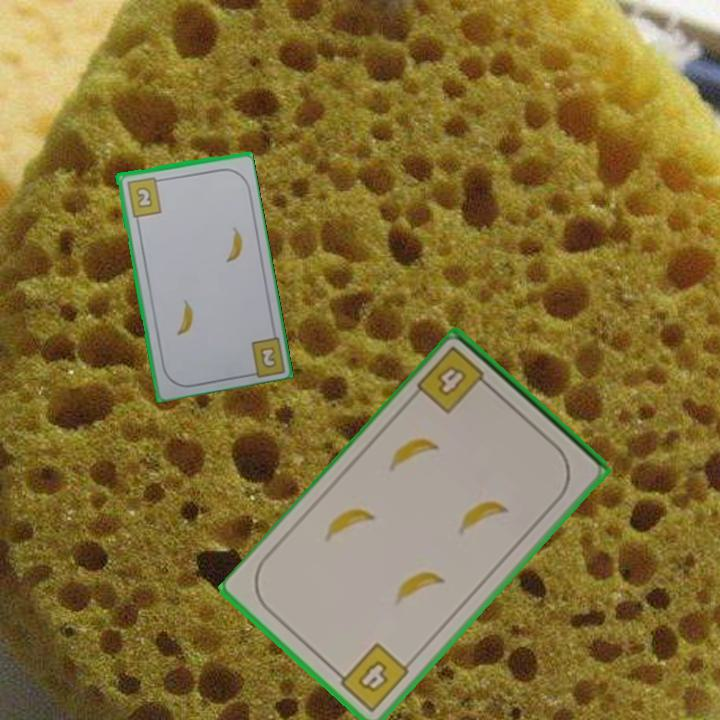2b: (123, 173, 165, 219), (256, 343, 280, 371)
4b: (331, 639, 412, 716), (414, 343, 496, 417)
